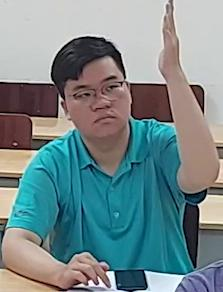Raising_Hand: (0, 0, 223, 289)
